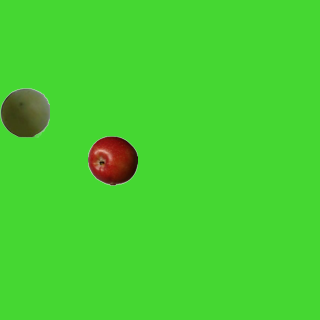Apple Braeburn: (87, 135, 137, 185)
Grape White 4: (0, 87, 49, 137)
